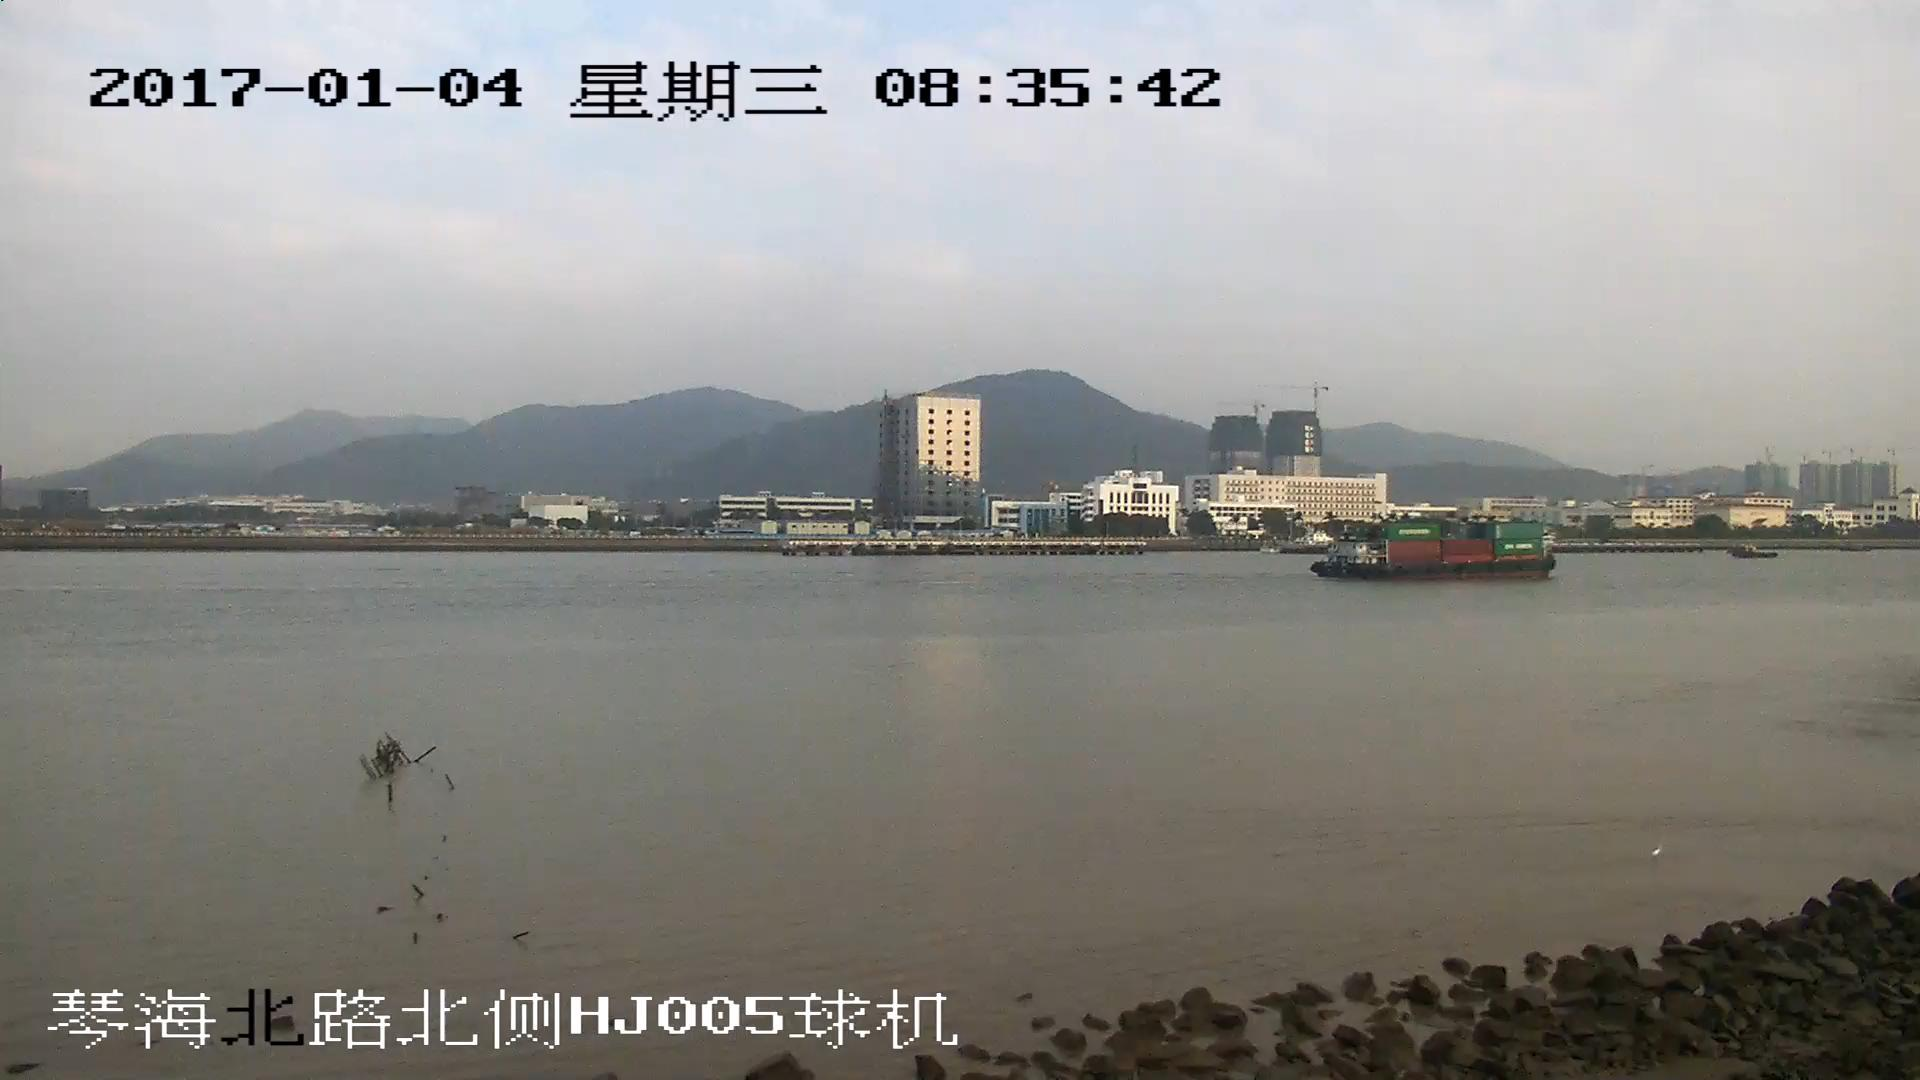Ship: (1323, 524, 1555, 578)
